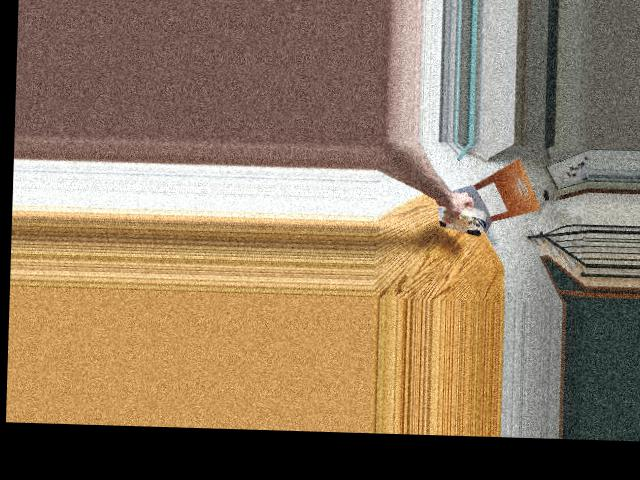cheese: (437, 203, 485, 236)
